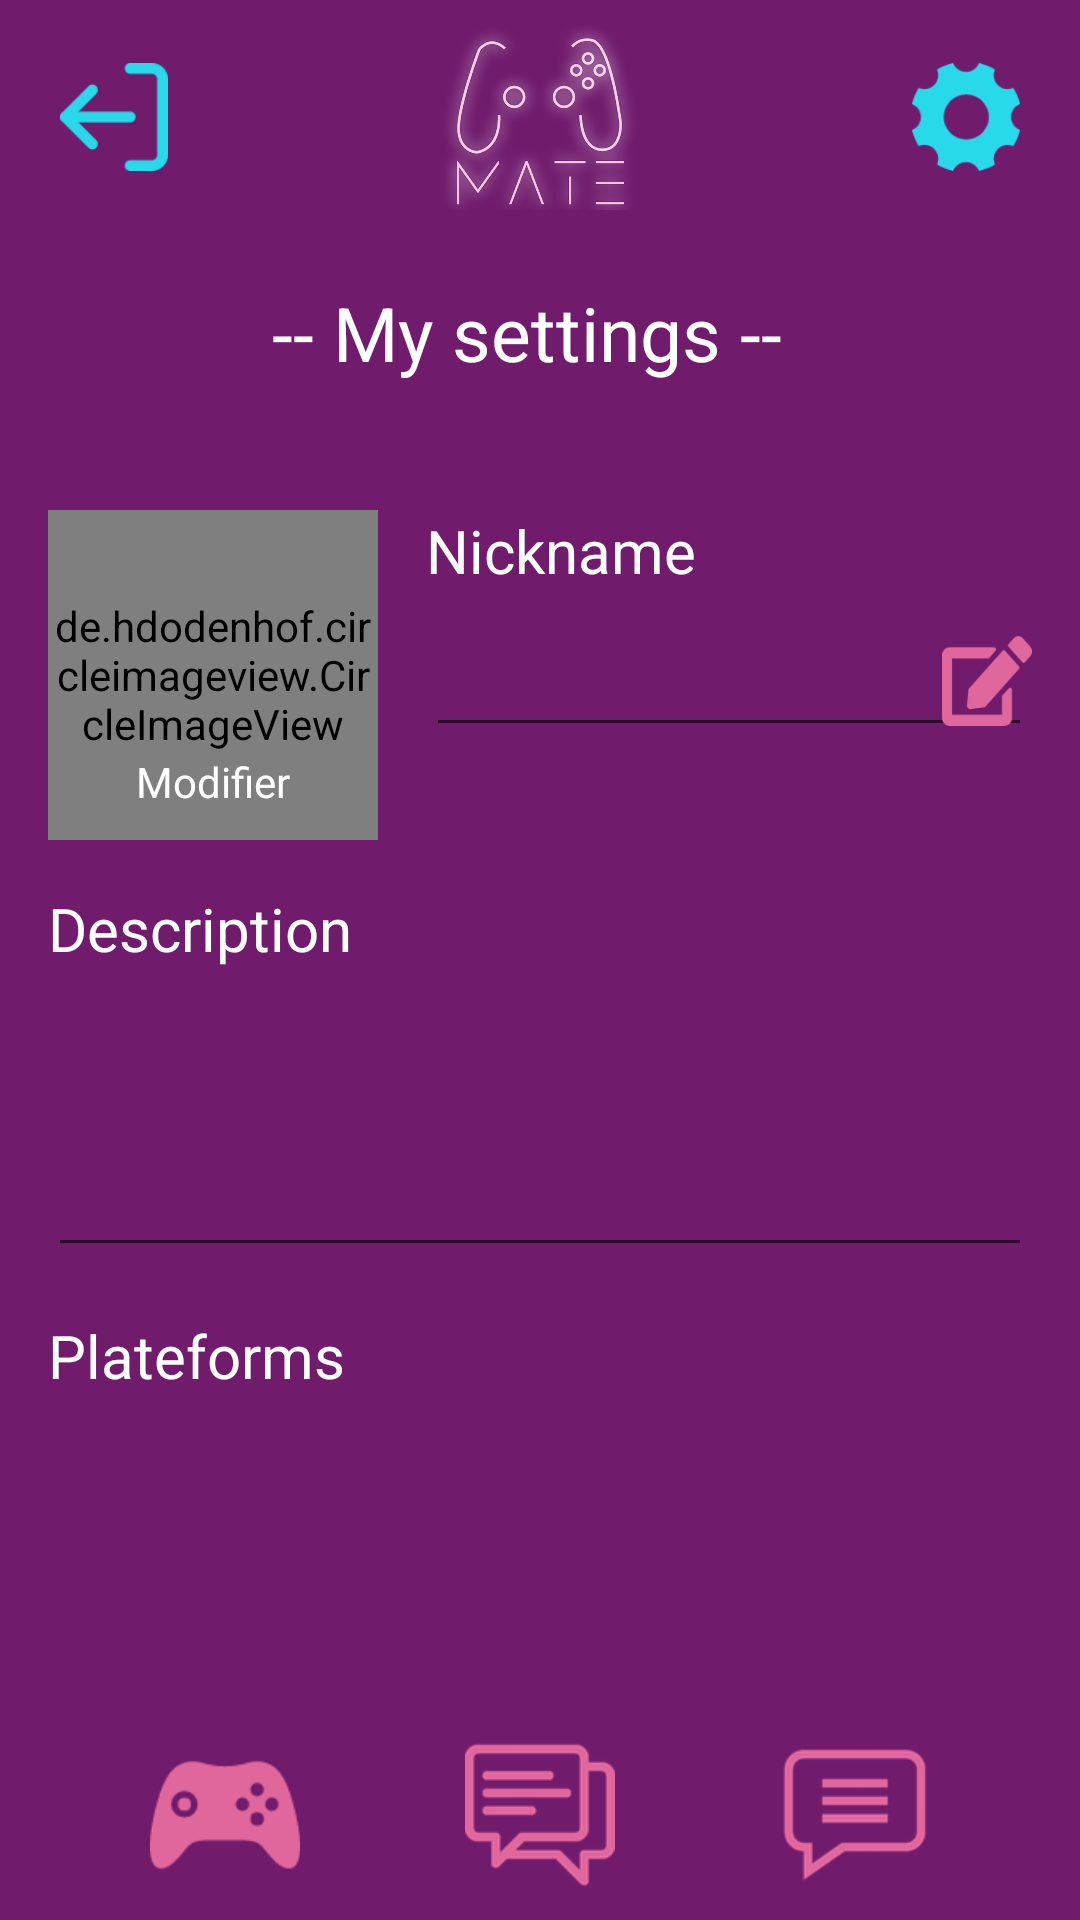

Point at icon controls on the screen. Image size 1080px x 1920px, points as [x,y].
gamepad: [225,1815]
write: [987,681]
